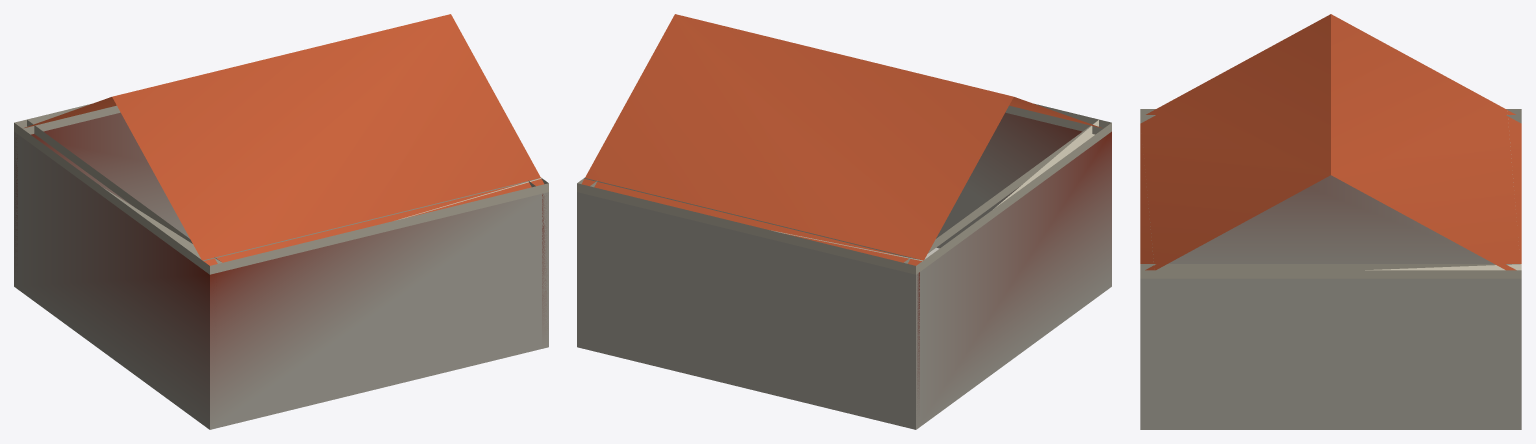
The model's file is house_1.glb.
3 renders of one model, left to right at view 1: azimuth 30°, elevation 25°; view 2: azimuth 150°, elevation 25°; view 3: azimuth 270°, elevation 25°, orthographic. The views are drawn at different scales.
Visible parts, largest first — view 1: house_1_roof_-1_xb, house_1__wall_0_xb, house_1__wall_3_xb, house_1__wall_2_xb, house_1__cornice_0_xb, house_1__cornice_3_xb, house_1__cornice_2_xb, house_1__wall_1_xb, house_1_roof_1_xb; view 2: house_1_roof_1_xb, house_1__wall_2_xb, house_1__wall_3_xb, house_1__wall_0_xb, house_1__cornice_2_xb, house_1__cornice_3_xb, house_1__cornice_0_xb, house_1__wall_1_xb, house_1_roof_-1_xb; view 3: house_1__wall_1_xb, house_1_roof_-1_xb, house_1_roof_1_xb, house_1__wall_3_xb, house_1__cornice_1_xb, house_1__wall_0_xb, house_1__wall_2_xb.
Part boxes in pixels (x1,y1,x2,y2): house_1_roof_-1_xb: [112, 14, 544, 265]; house_1__wall_0_xb: [206, 192, 548, 429]; house_1__wall_3_xb: [14, 132, 216, 429]; house_1__wall_2_xb: [14, 112, 189, 289]; house_1__cornice_0_xb: [202, 178, 548, 274]; house_1__cornice_3_xb: [14, 120, 222, 274]; house_1__cornice_2_xb: [14, 103, 120, 136]; house_1__wall_1_xb: [542, 192, 548, 348]; house_1_roof_1_xb: [24, 97, 116, 127]; house_1_roof_1_xb: [581, 14, 1013, 265]; house_1__wall_2_xb: [577, 193, 919, 429]; house_1__wall_3_xb: [909, 131, 1111, 429]; house_1__wall_0_xb: [936, 112, 1111, 286]; house_1__cornice_2_xb: [577, 178, 923, 274]; house_1__cornice_3_xb: [904, 120, 1111, 274]; house_1__cornice_0_xb: [1005, 103, 1111, 136]; house_1__wall_1_xb: [577, 192, 583, 348]; house_1_roof_-1_xb: [1009, 97, 1101, 127]; house_1__wall_1_xb: [1140, 278, 1521, 429]; house_1_roof_-1_xb: [1140, 14, 1330, 270]; house_1_roof_1_xb: [1331, 14, 1521, 270]; house_1__wall_3_xb: [1168, 175, 1493, 263]; house_1__cornice_1_xb: [1140, 264, 1521, 278]; house_1__wall_0_xb: [1140, 278, 1147, 429]; house_1__wall_2_xb: [1514, 278, 1521, 429].
Bounding box in the file's own units: 0.8 × 0.59 × 0.8.
